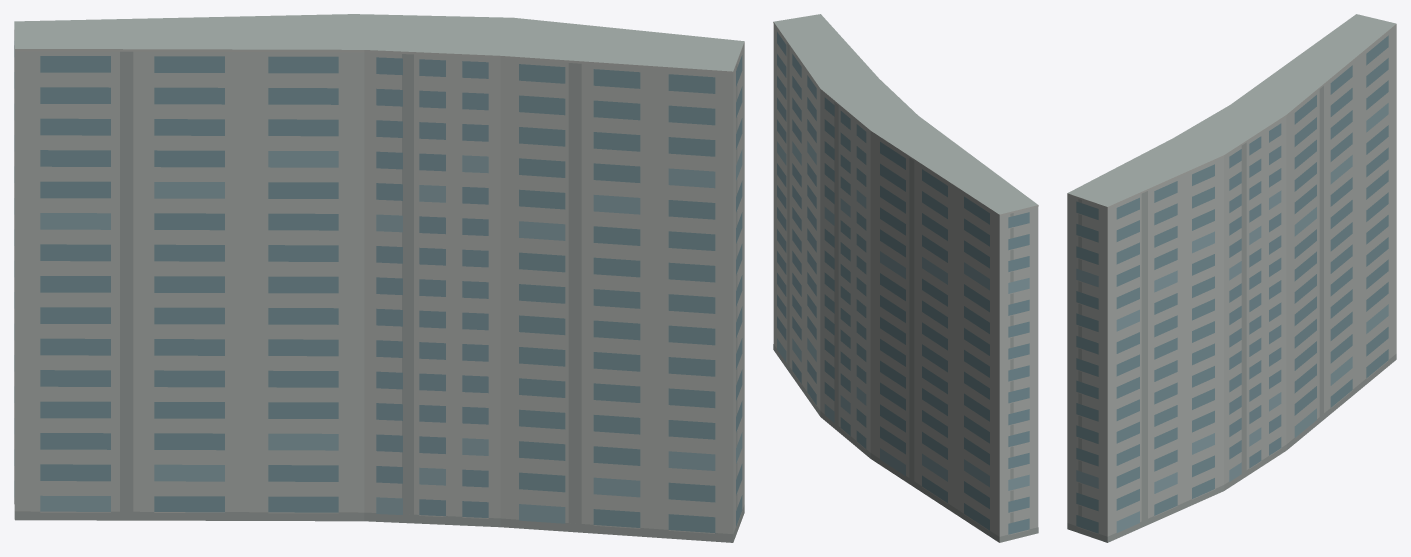
Rendered from residential-4b67e923-0bfd-4843-bdd5-4773570e3951.glb.
The picture shows the model from 3 angles, left to right: view 1: azimuth 30°, elevation 25°; view 2: azimuth 150°, elevation 25°; view 3: azimuth 270°, elevation 25°; orthographic projection. The views are drawn at different scales.
Visible parts, largest first — view 1: residential-4b67e923-0bfd-4843-bdd5-4773570e3951.tmp; view 2: residential-4b67e923-0bfd-4843-bdd5-4773570e3951.tmp; view 3: residential-4b67e923-0bfd-4843-bdd5-4773570e3951.tmp.
Part boxes in pixels (bbox=[...]): residential-4b67e923-0bfd-4843-bdd5-4773570e3951.tmp: bbox=[14, 14, 744, 542]; residential-4b67e923-0bfd-4843-bdd5-4773570e3951.tmp: bbox=[773, 14, 1038, 542]; residential-4b67e923-0bfd-4843-bdd5-4773570e3951.tmp: bbox=[1067, 14, 1396, 542].
Size of the model in its own units: 57.94 by 47 by 41.79.
